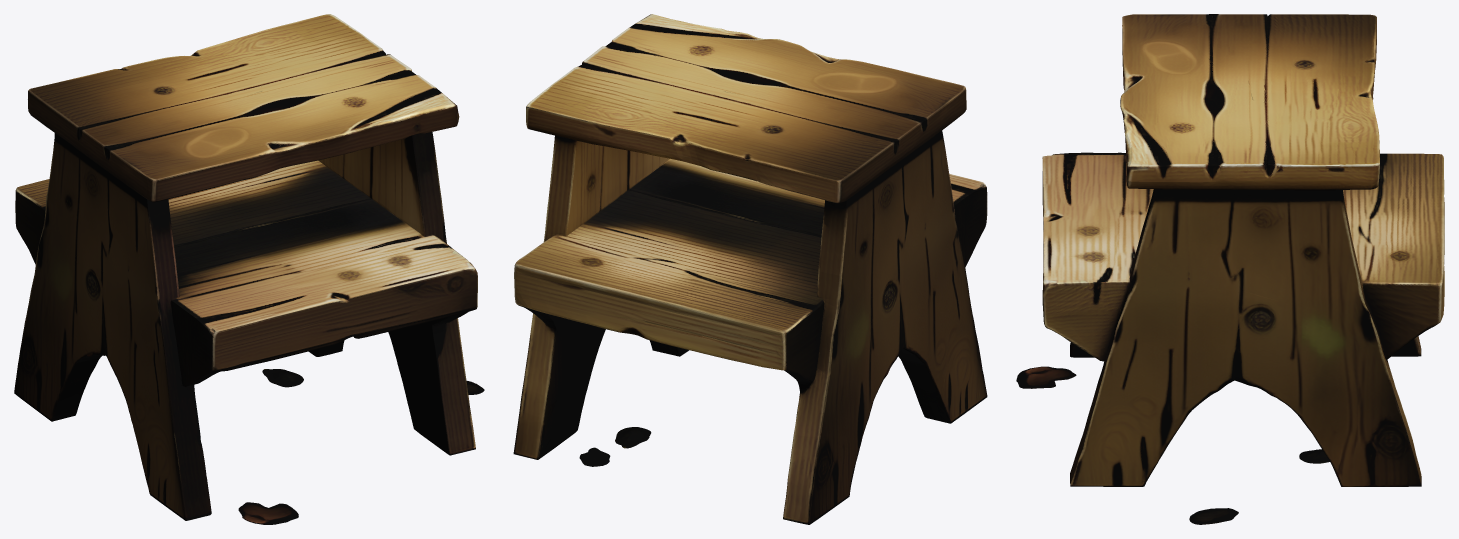
File: wooden-step-stool-horror.jpeg.glb
3 renders of one model, left to right at view 1: azimuth 30°, elevation 25°; view 2: azimuth 150°, elevation 25°; view 3: azimuth 270°, elevation 25°, orthographic. The views are drawn at different scales.
Visible parts, largest first — view 1: world; view 2: world; view 3: world.
Boxes of the visible parts, left/top/right/bottom form: world: left=14, top=14, right=484, bottom=524; world: left=513, top=14, right=987, bottom=524; world: left=1016, top=14, right=1444, bottom=524.
Bounding box in the file's own units: 0.9881 × 0.8329 × 0.9798.
Materials: 1 (1 with a texture image).
